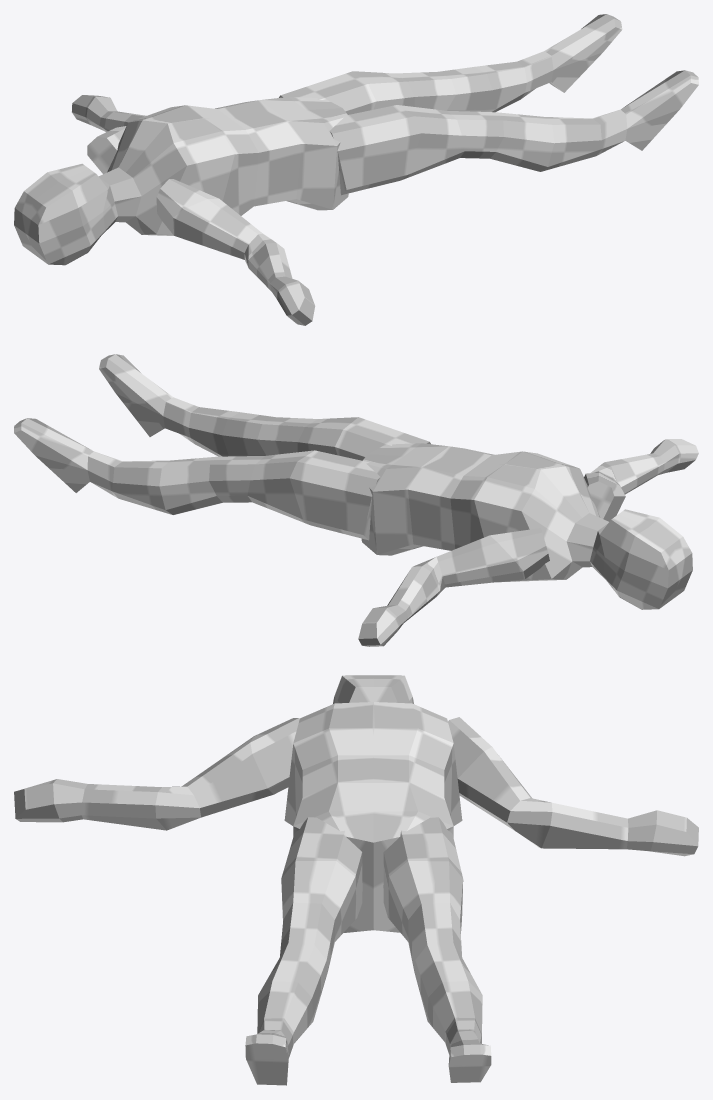
Rendered from attacker_corpse.glb.
The picture shows the model from 3 angles, top to bottom: view 1: azimuth 30°, elevation 25°; view 2: azimuth 150°, elevation 25°; view 3: azimuth 270°, elevation 25°; orthographic projection. The views are drawn at different scales.
Parts seen in each view (by area): view 1: attacker; view 2: attacker; view 3: attacker.
Boxes of the visible parts, box(x1,y1,x2,y2) form: attacker: box(14, 14, 698, 325); attacker: box(14, 354, 698, 646); attacker: box(14, 675, 698, 1085).
Size of the model in its own units: 1.91 by 0.3169 by 1.44.
1 material, 1 textured.
